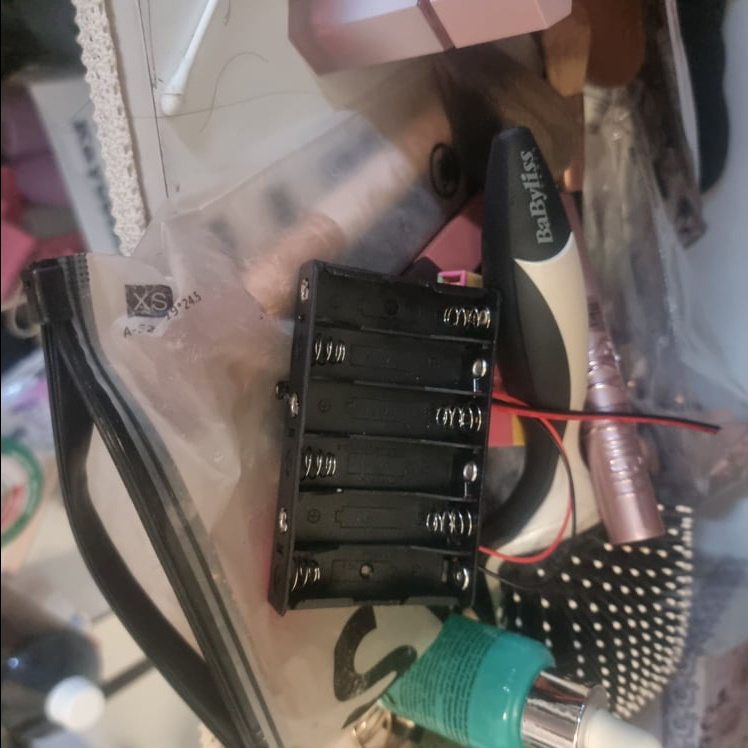BATTERY BOX: (264, 260, 499, 619)
